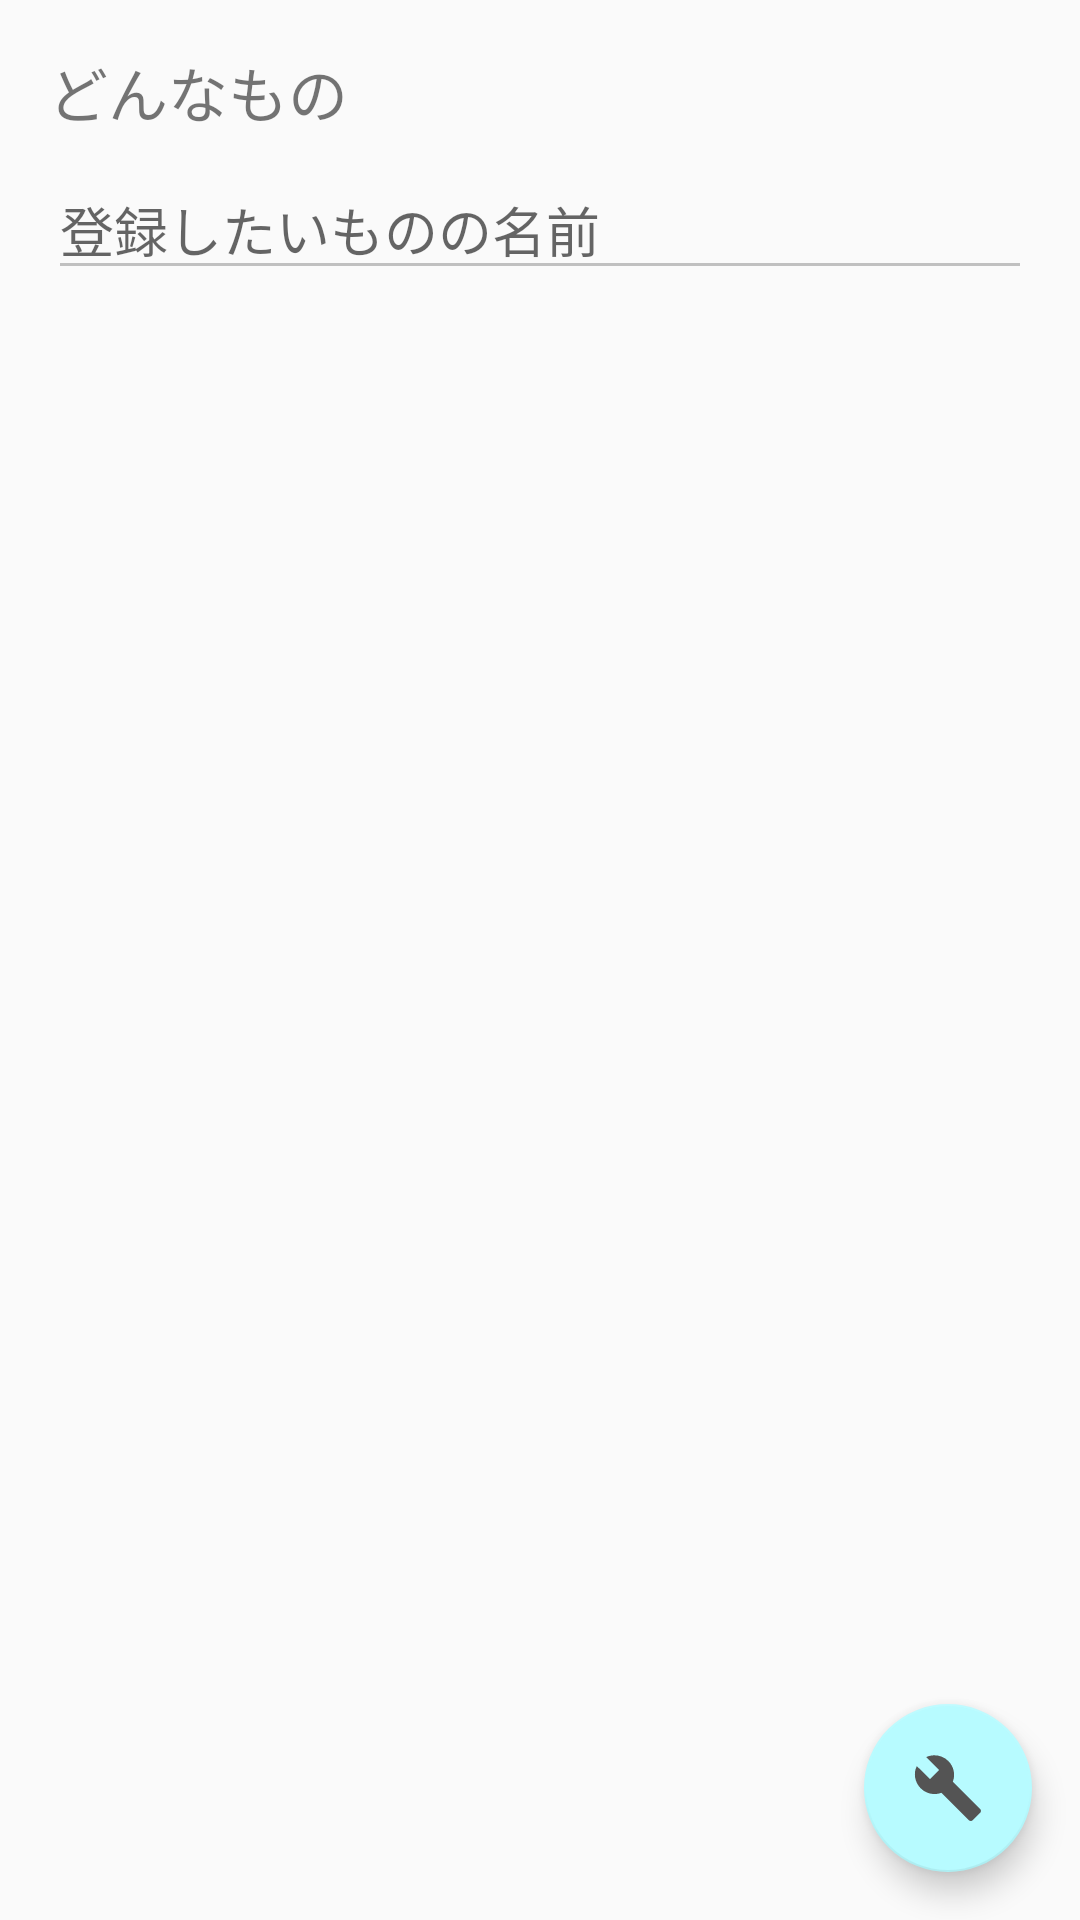

Named icons in this screenshot (1080px x 1920px) and their bounding boxes, (x1, y1, x2, y2):
build: (864, 1704, 1032, 1872)
